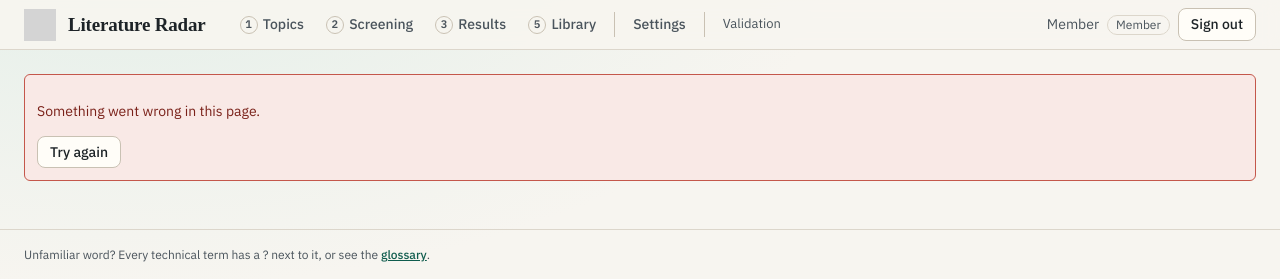
it: Layout › clears a crashed page when the user navigates to another page
The width and height of the screenshot is (1280, 279).
Expected: the message shows "Something went wrong in this page", [24,74,1256,181]
Click the link named "Step 2: Screening" at x=369, y=24, box [326,15,413,34]
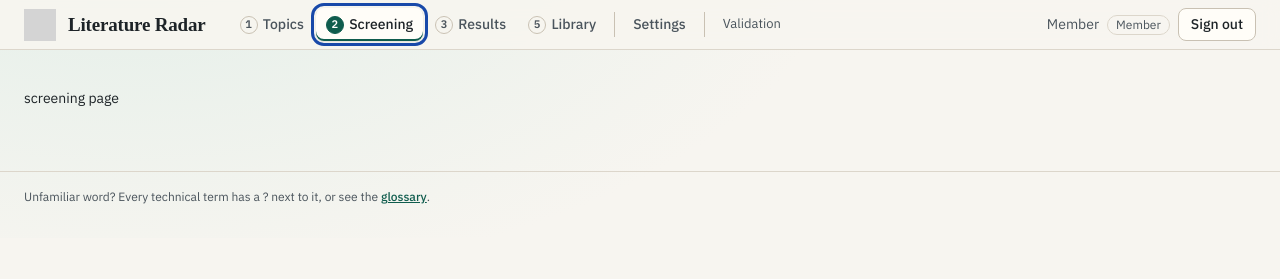
Now the text "screening page" is shown, box [24,89,119,107]
Now the message "Something went wrong in this page. Try again" is gone
